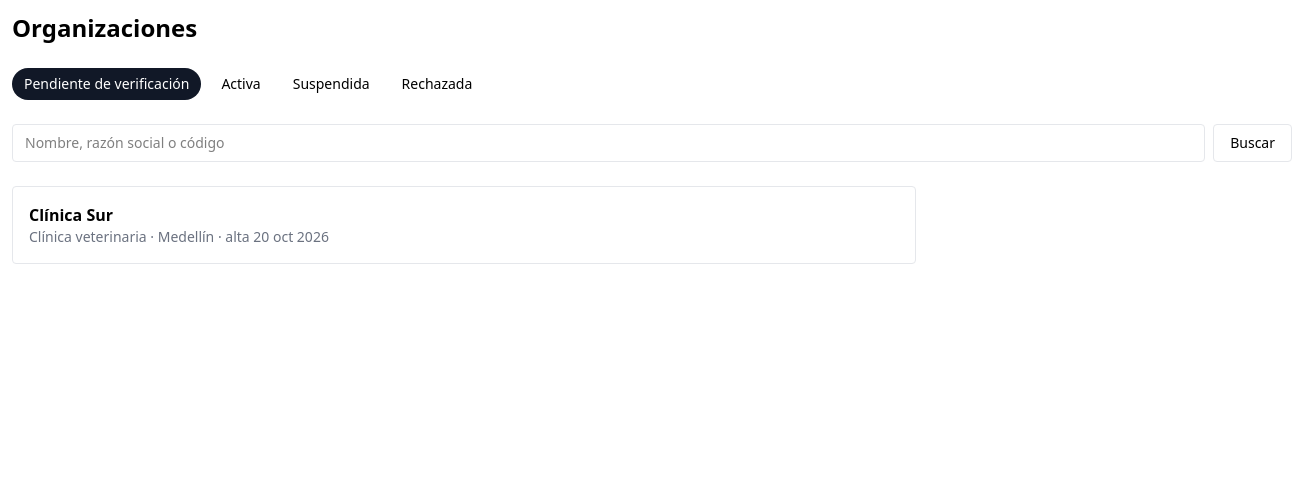
it: AdminOrganizationsPage (FE-009, PRD-017) › abre la cola de verificación y muestra el detalle con fundador
Click the button with test id "org-row": (71, 215) [12,186,916,264]
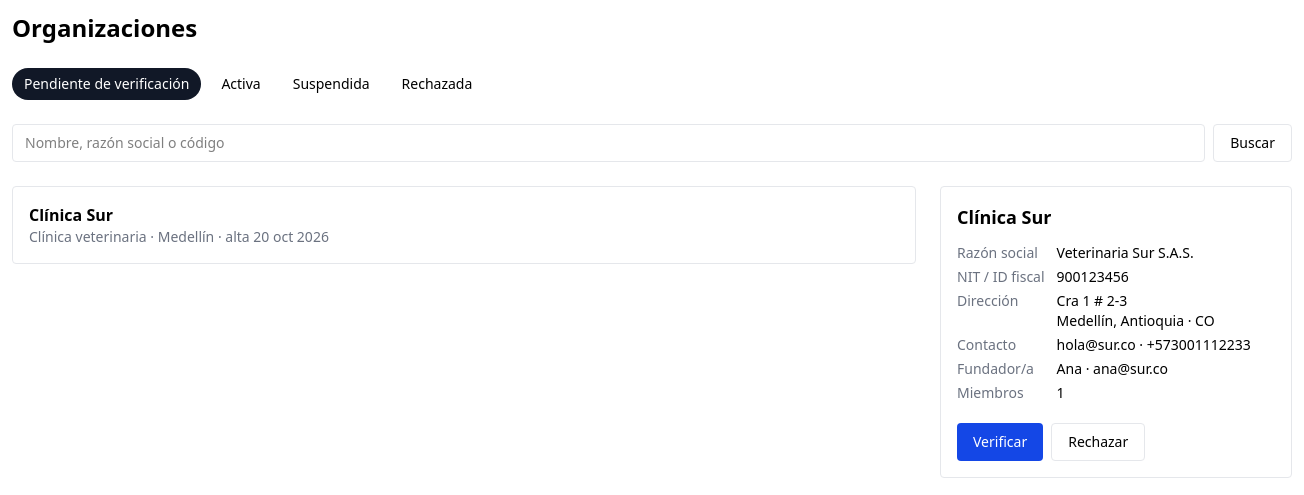
Expected: the element with test id "org-detail" shows "Veterinaria Sur S.A.S.", [1057,243,1194,262]
Expected: the text with test id "org-founder" shows "ana@sur.co", [1057,359,1168,378]
Expected: the button with test id "action-verify" is shown, [957,423,1043,461]
